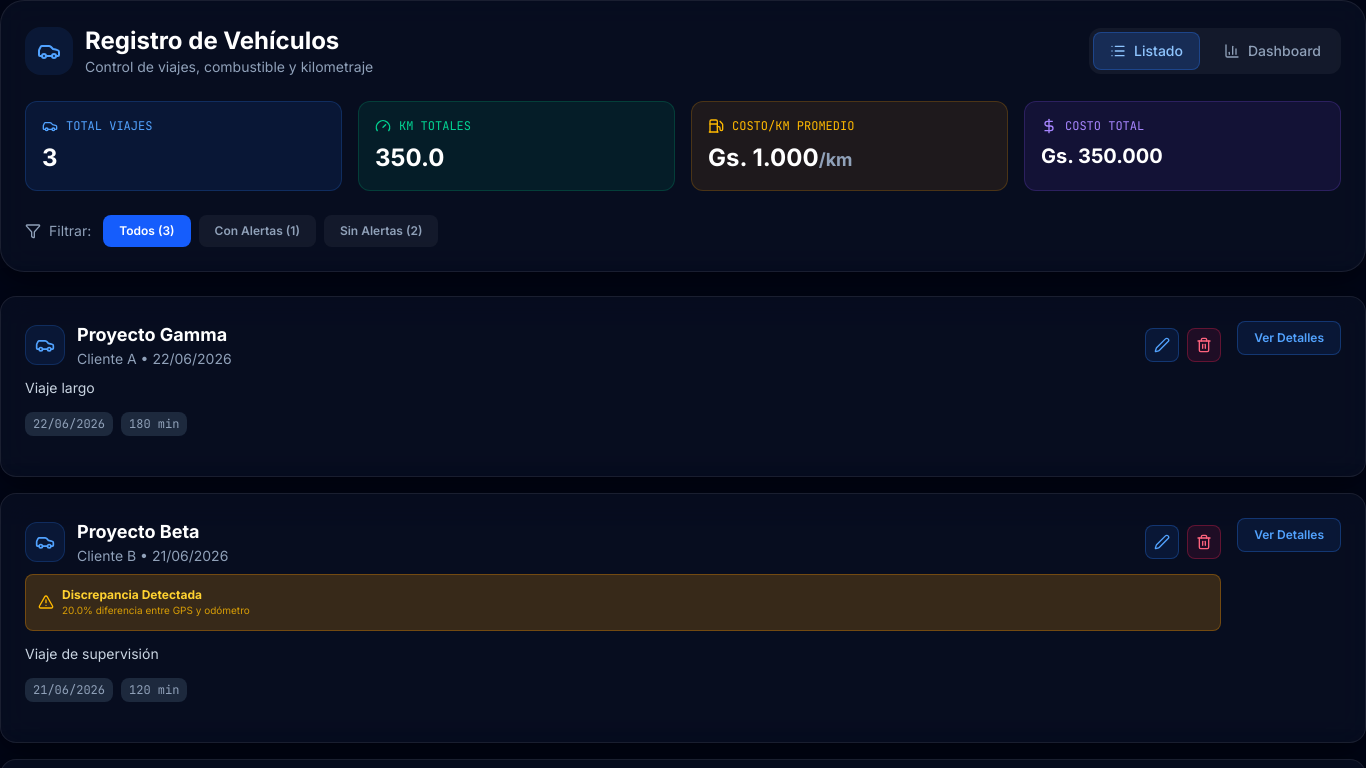
VehiculosAdminView › Edit Modal › opens edit modal
What coordinates should you click on to do the following:
click the button named "Editar viaje"
I would click on:
 (1162, 345)
Its box is [1145,328,1179,362].
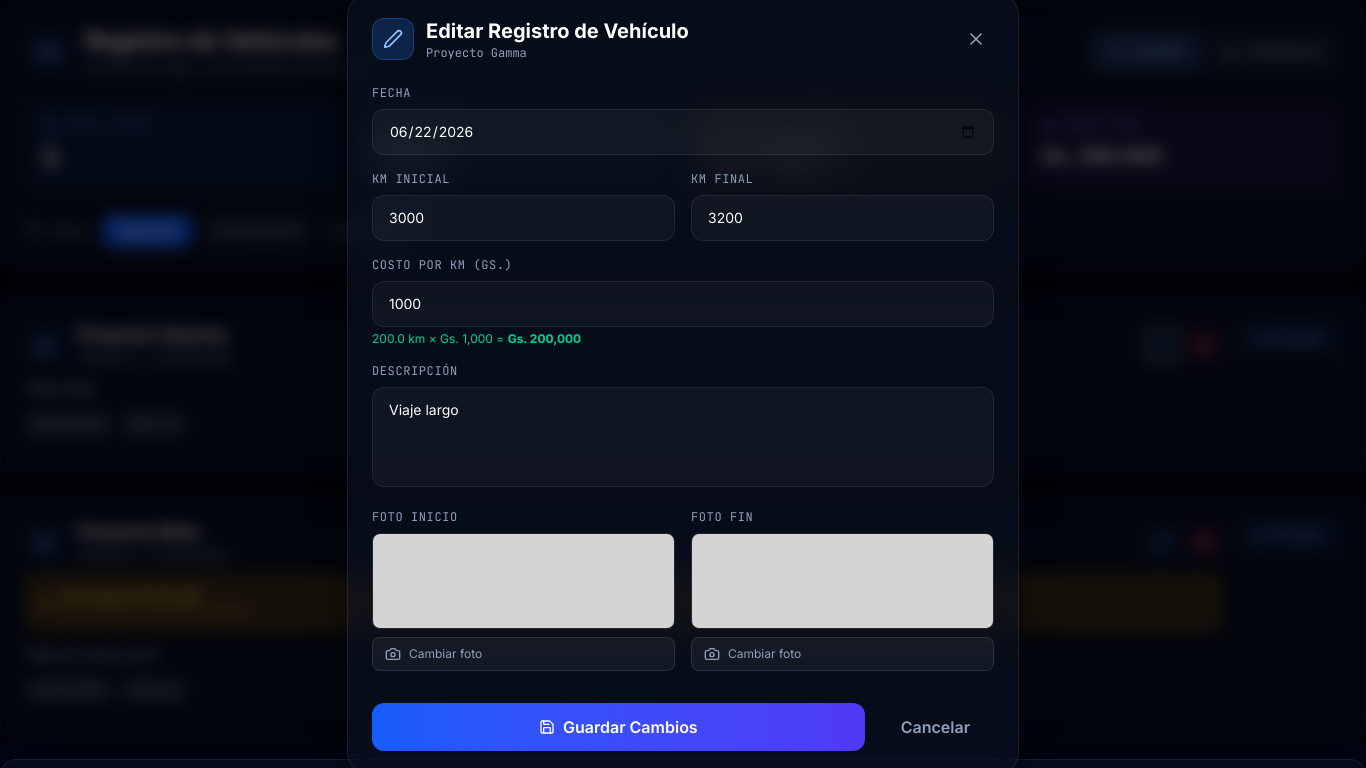
Check: the heading "Editar Registro de Vehículo" is shown, box [426,17,689,45]
